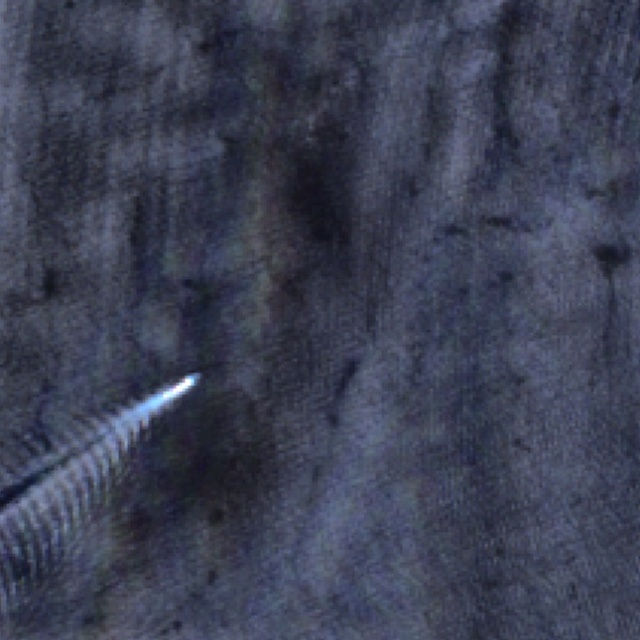wake: (19, 326, 237, 522)
